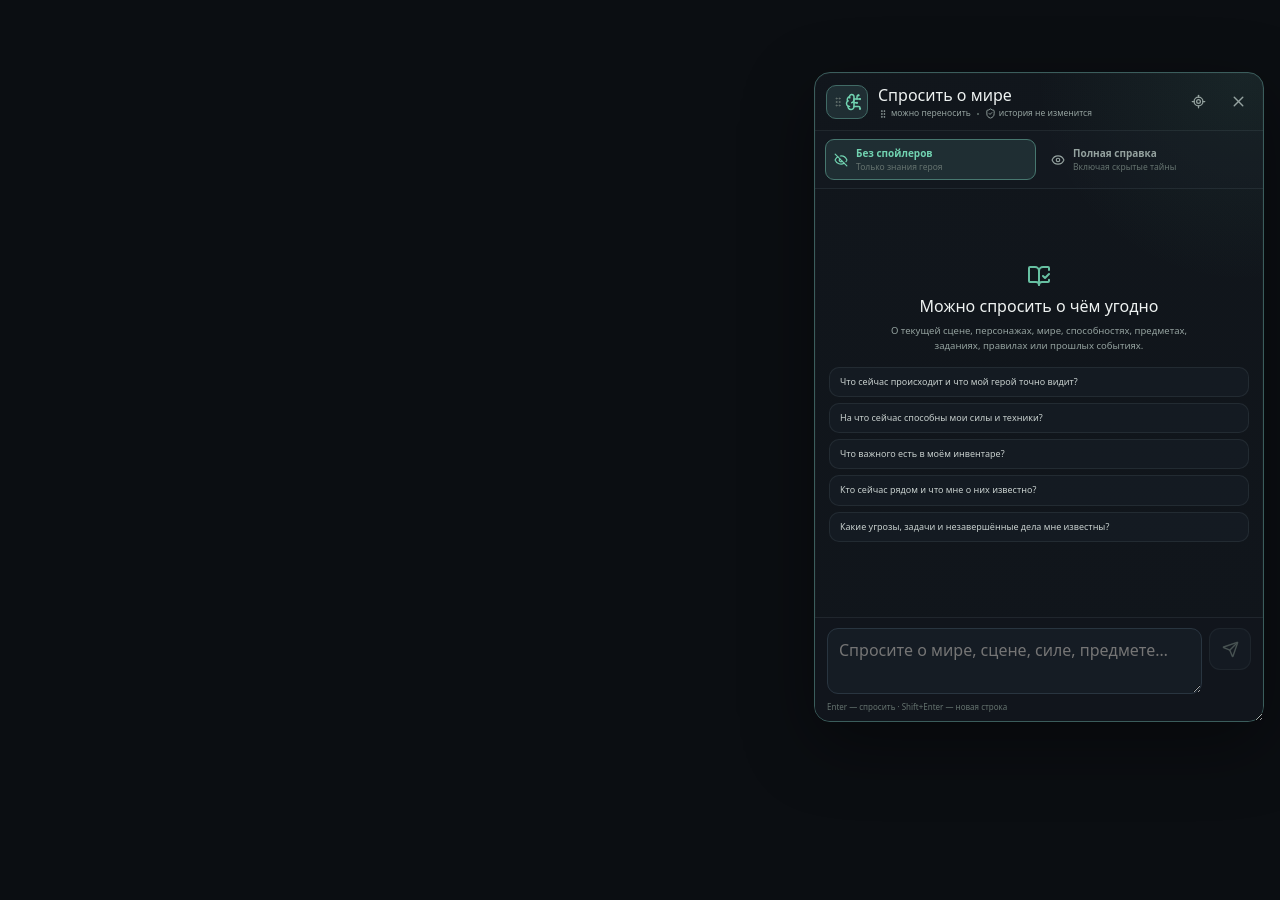
Test: world question panel › removes a failed pending question instead of duplicating it on retry
This screenshot has width=1280, height=900.
Type "Как работает моя способность?" into the text box named "Вопрос о кампании".
click(1014, 661); type("Как работает моя способность?")  # box [827, 628, 1202, 694]
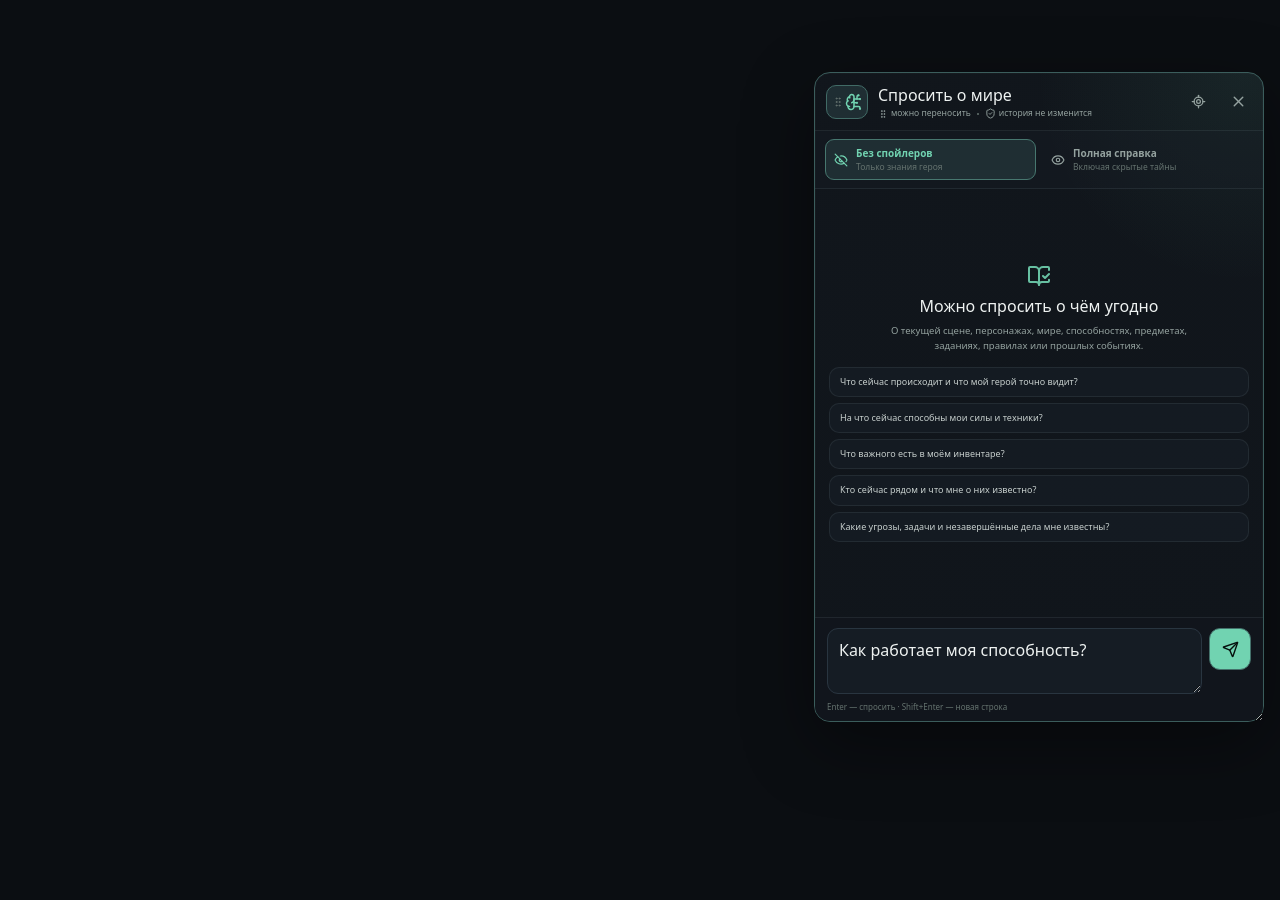
Click the button named "Задать вопрос".
click(1230, 649)  # box [1209, 628, 1251, 670]
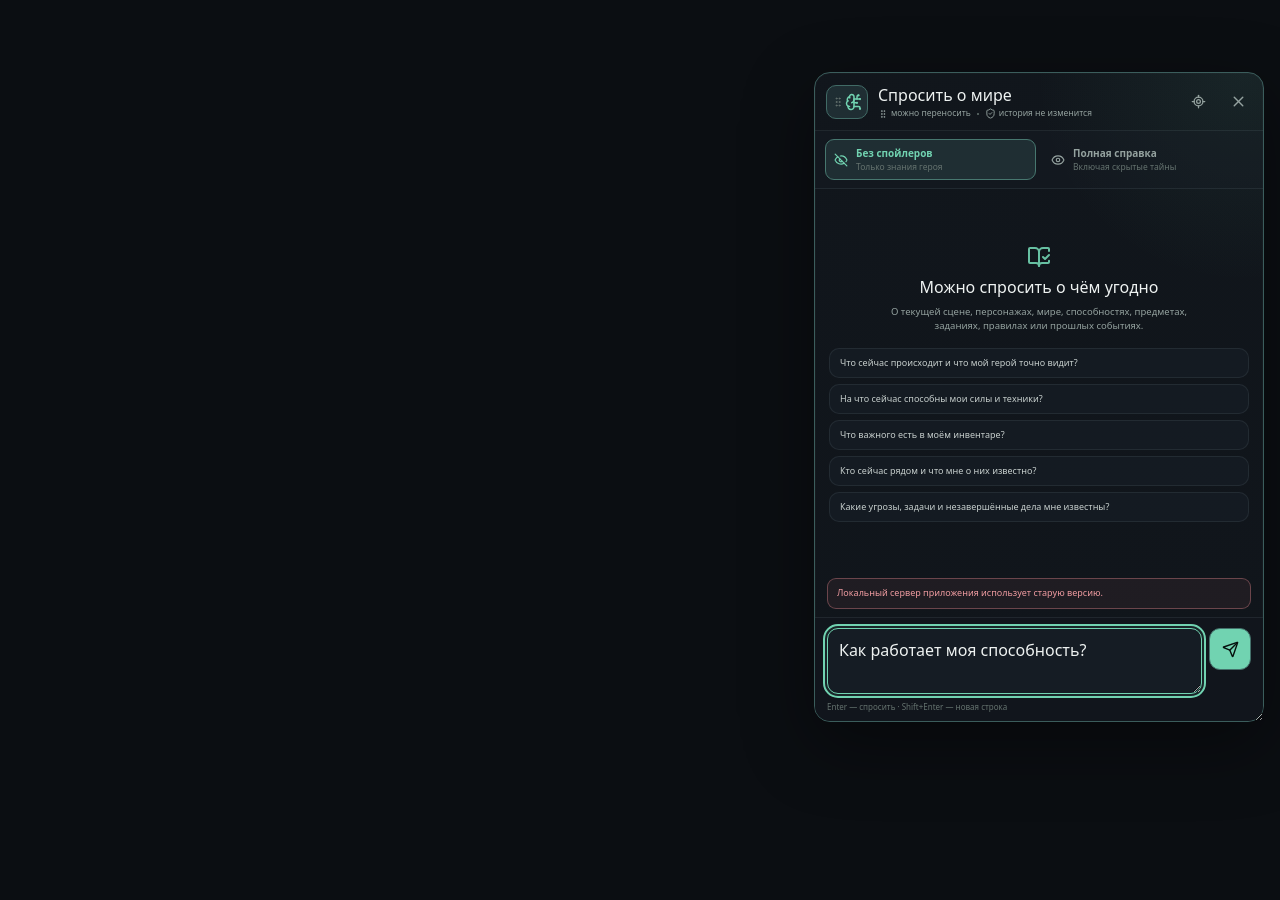
Result: the message shows "старую версию" at [837, 586, 1103, 599]
